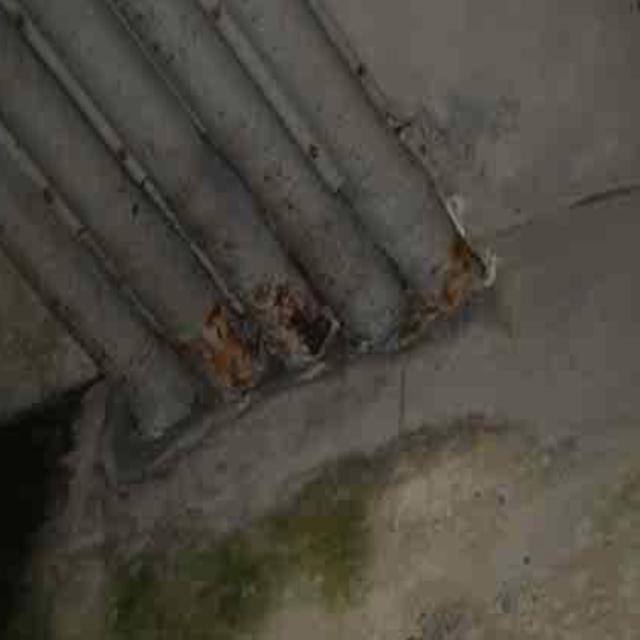corrosion: (192, 260, 322, 393), (407, 217, 502, 299)
